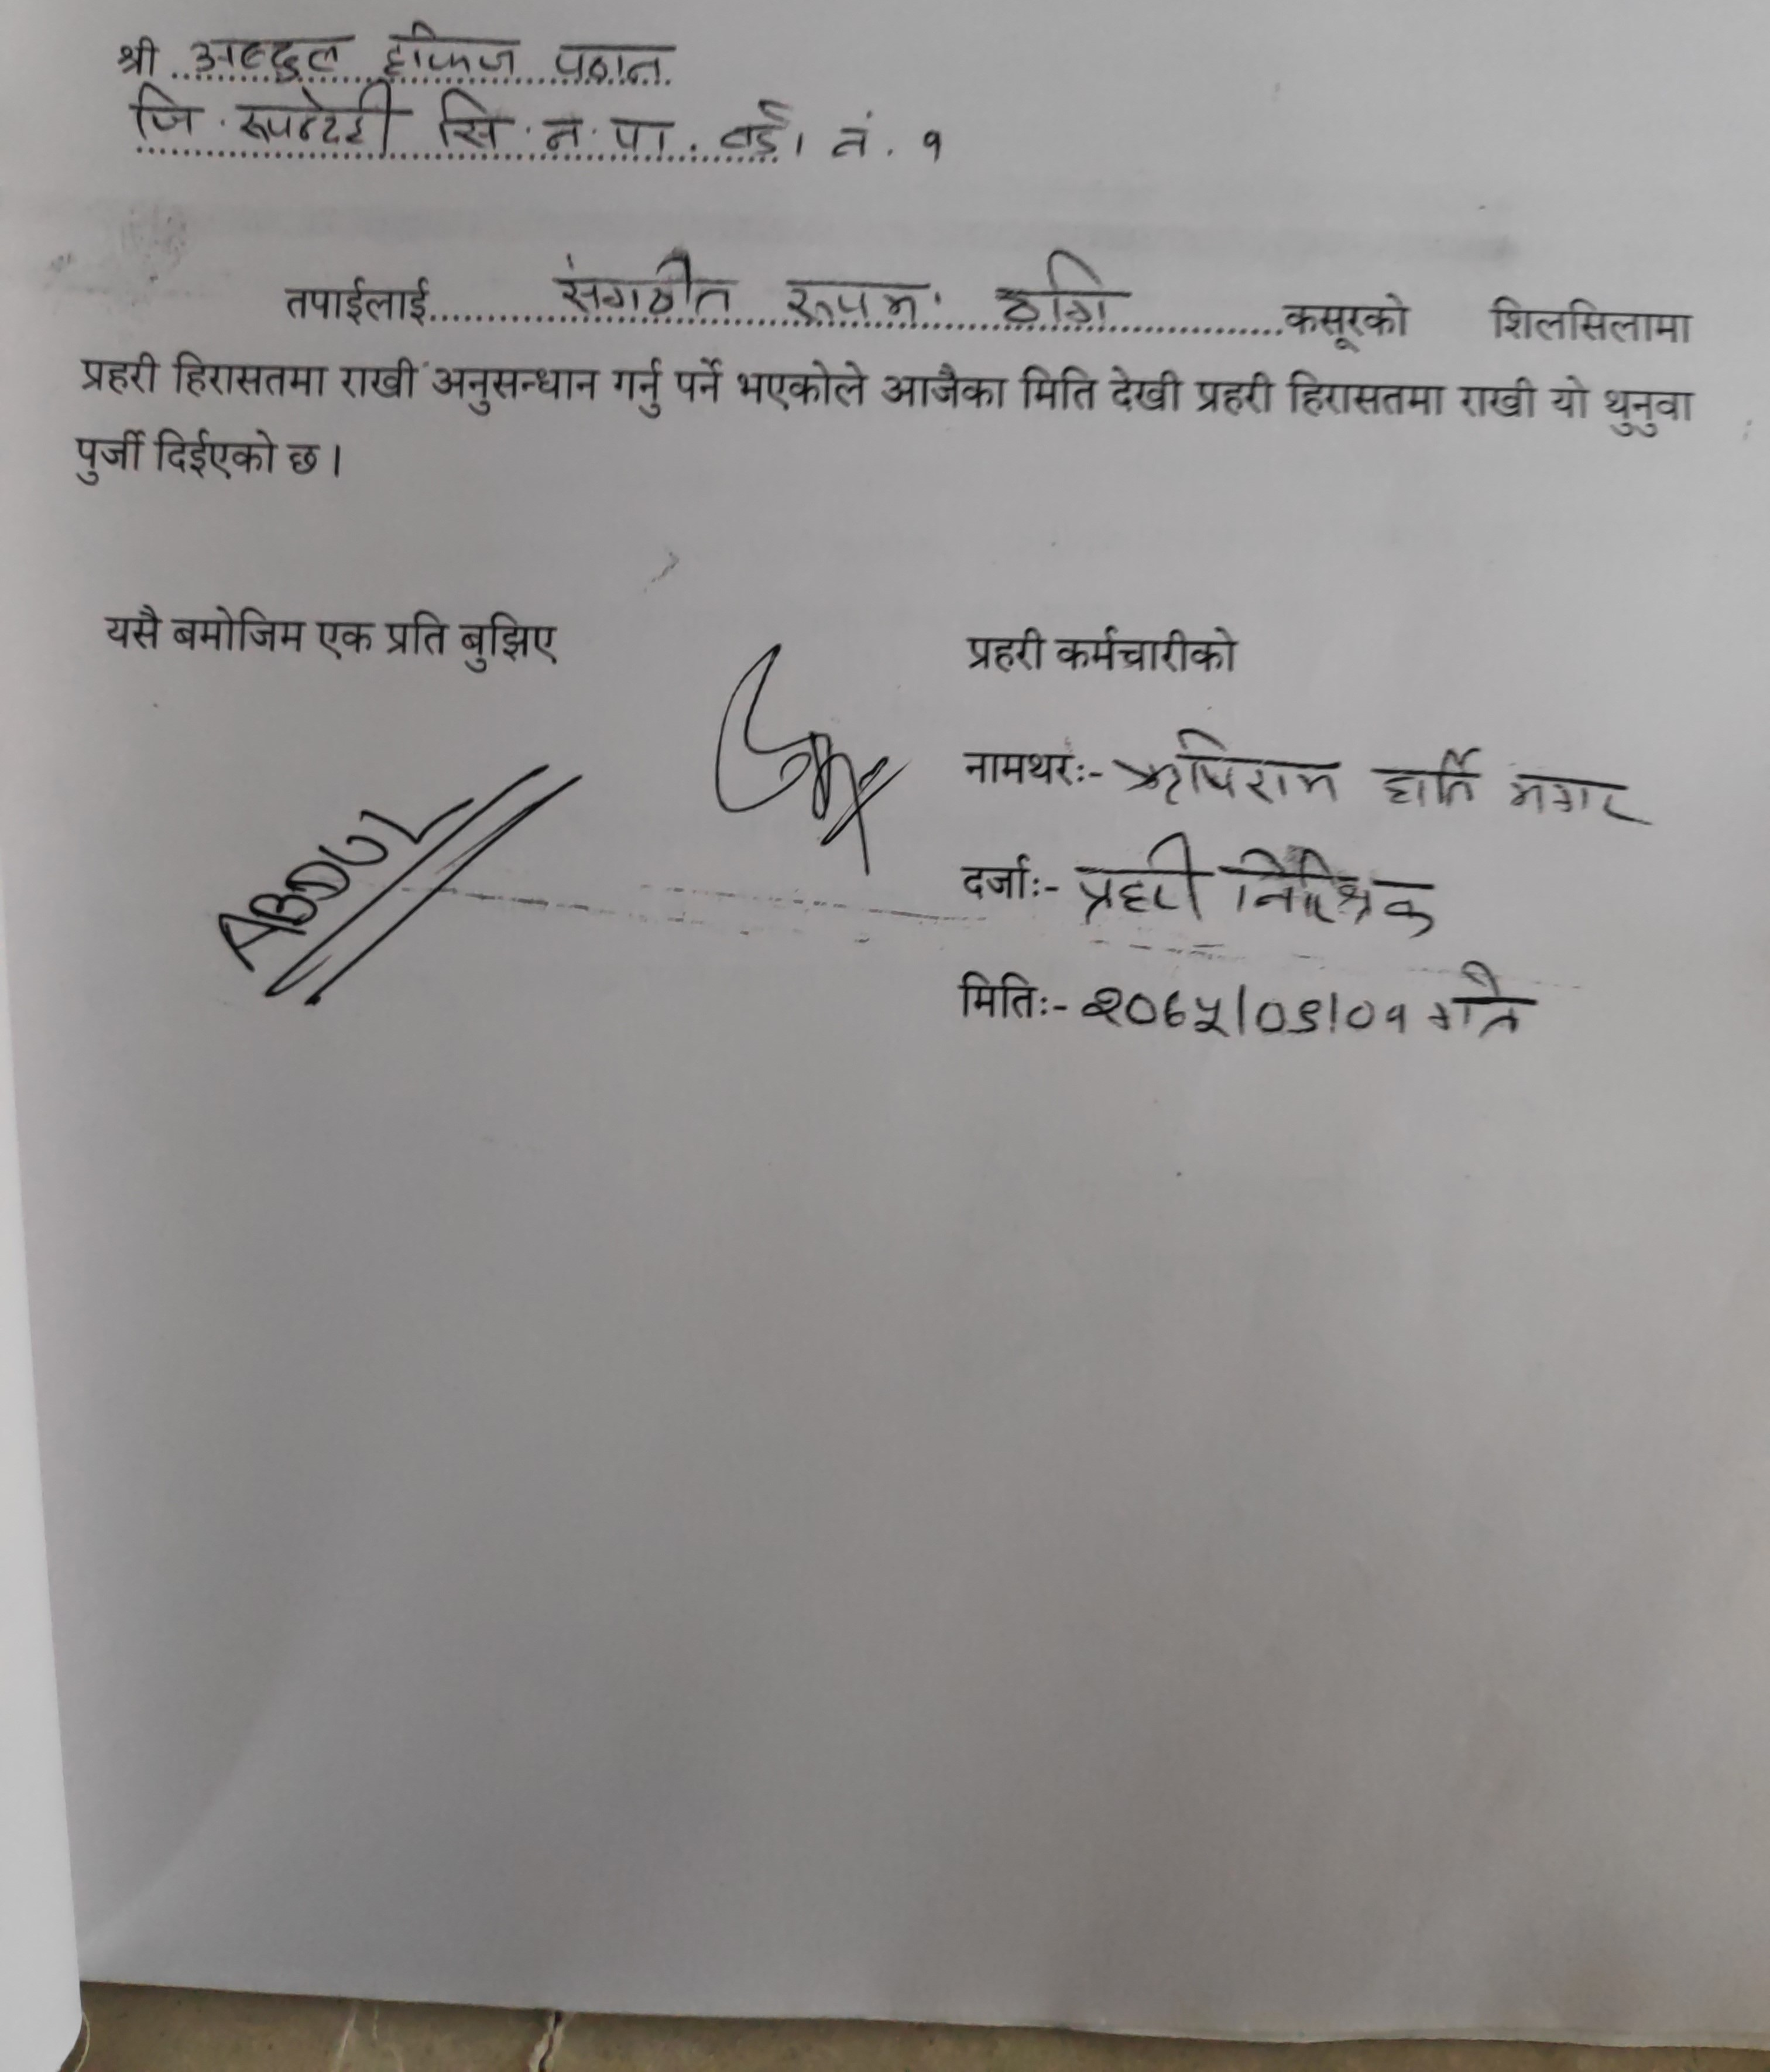text: (1229, 841, 1443, 945), (1075, 980, 1412, 1045), (1112, 723, 1347, 815), (1073, 824, 1205, 929), (232, 79, 404, 158), (551, 251, 739, 321), (992, 246, 1120, 334), (776, 270, 945, 335), (1508, 762, 1654, 834), (181, 26, 349, 88), (1419, 957, 1531, 1047), (372, 19, 522, 81), (532, 109, 676, 169), (1368, 743, 1486, 811), (546, 35, 676, 88), (432, 81, 509, 158), (716, 100, 815, 160), (130, 81, 202, 149), (822, 109, 878, 162), (917, 130, 952, 172)
